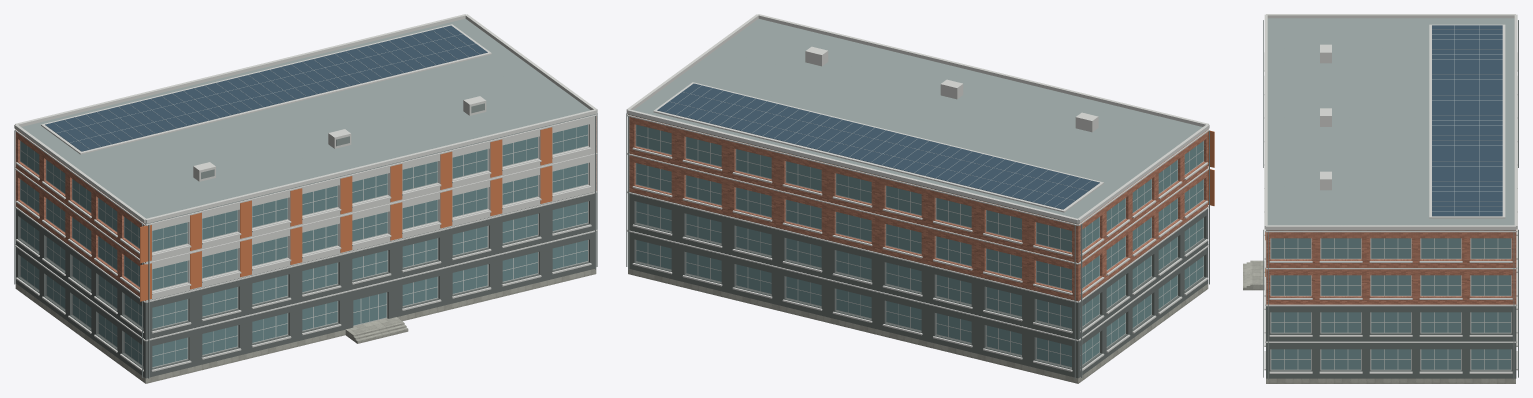
The picture shows the model from 3 angles, left to right: view 1: azimuth 30°, elevation 25°; view 2: azimuth 150°, elevation 25°; view 3: azimuth 270°, elevation 25°; orthographic projection. The views are drawn at different scales.
Parts seen in each view (by area): view 1: north__roof, north__glass, north__white, north__dark, north__pv, north__frame, north__orange, north__brick, north__stone, north__pvgrid, north__steel, north__stair-courtyard; view 2: north__roof, north__glass, north__dark, north__brick, north__white, north__pv, north__frame, north__stone, north__pvgrid, north__steel; view 3: north__roof, north__glass, north__pv, north__white, north__brick, north__dark, north__frame, north__pvgrid, north__stone, north__steel, north__stair-courtyard, north__threshold-courtyard.
Part boxes in pixels (<box>): north__roof: <box>21,18,596,224</box>; north__glass: <box>20,124,587,367</box>; north__white: <box>14,14,597,371</box>; north__dark: <box>15,192,596,378</box>; north__pv: <box>45,25,487,151</box>; north__frame: <box>20,124,588,367</box>; north__orange: <box>140,127,552,301</box>; north__brick: <box>15,116,596,301</box>; north__stone: <box>15,268,596,383</box>; north__pvgrid: <box>53,27,478,148</box>; north__steel: <box>14,103,597,378</box>; north__stair-courtyard: <box>351,321,408,343</box>; north__roof: <box>628,18,1202,224</box>; north__glass: <box>636,124,1203,367</box>; north__dark: <box>629,192,1208,378</box>; north__brick: <box>628,114,1208,301</box>; north__white: <box>626,14,1209,371</box>; north__pv: <box>657,83,1099,209</box>; north__frame: <box>635,125,1203,367</box>; north__stone: <box>628,269,1208,383</box>; north__pvgrid: <box>666,85,1091,206</box>; north__steel: <box>626,113,1209,378</box>; north__roof: <box>1266,18,1515,230</box>; north__glass: <box>1271,238,1510,369</box>; north__pv: <box>1432,25,1502,216</box>; north__white: <box>1264,14,1517,373</box>; north__brick: <box>1266,229,1516,304</box>; north__dark: <box>1266,306,1516,378</box>; north__frame: <box>1270,238,1511,370</box>; north__pvgrid: <box>1432,25,1502,215</box>; north__stone: <box>1266,378,1515,383</box>; north__steel: <box>1263,20,1518,379</box>; north__stair-courtyard: <box>1243,260,1254,290</box>; north__threshold-courtyard: <box>1254,260,1264,290</box>.
Size of the model in its own units: 46.85 by 16.87 by 25.38.
Materials: 11 (5 with a texture image).
